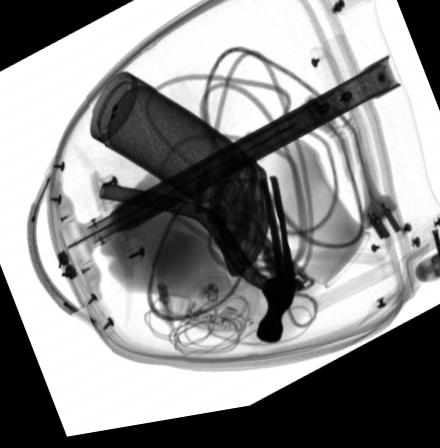Hammer: (98, 182, 297, 352)
